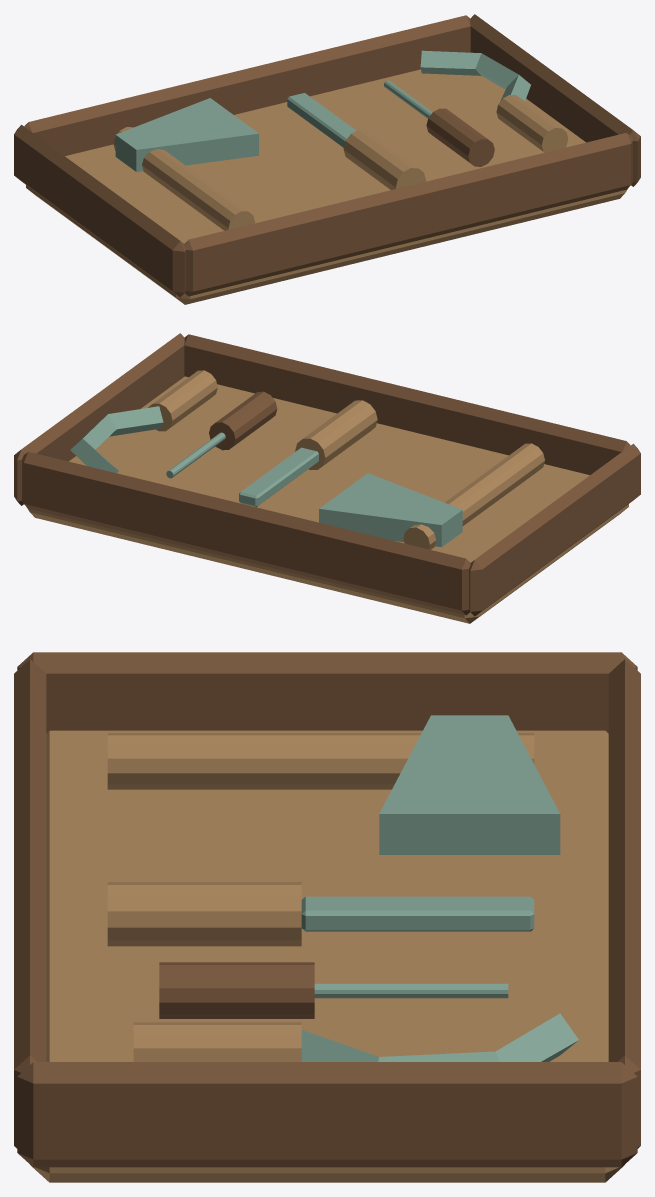
3 views of the same model, one above another, from view 1: azimuth 30°, elevation 25°; view 2: azimuth 150°, elevation 25°; view 3: azimuth 270°, elevation 25° (orthographic). The views are drawn at different scales.
Parts seen in each view (by area): view 1: BA-0059 batched; view 2: BA-0059 batched; view 3: BA-0059 batched.
Boxes of the visible parts, x1,y1,x2,y2 form: BA-0059 batched: [14, 14, 640, 304]; BA-0059 batched: [14, 333, 640, 623]; BA-0059 batched: [14, 652, 640, 1182].
Bounding box in the file's own units: 0.775 × 0.11 × 0.485.
